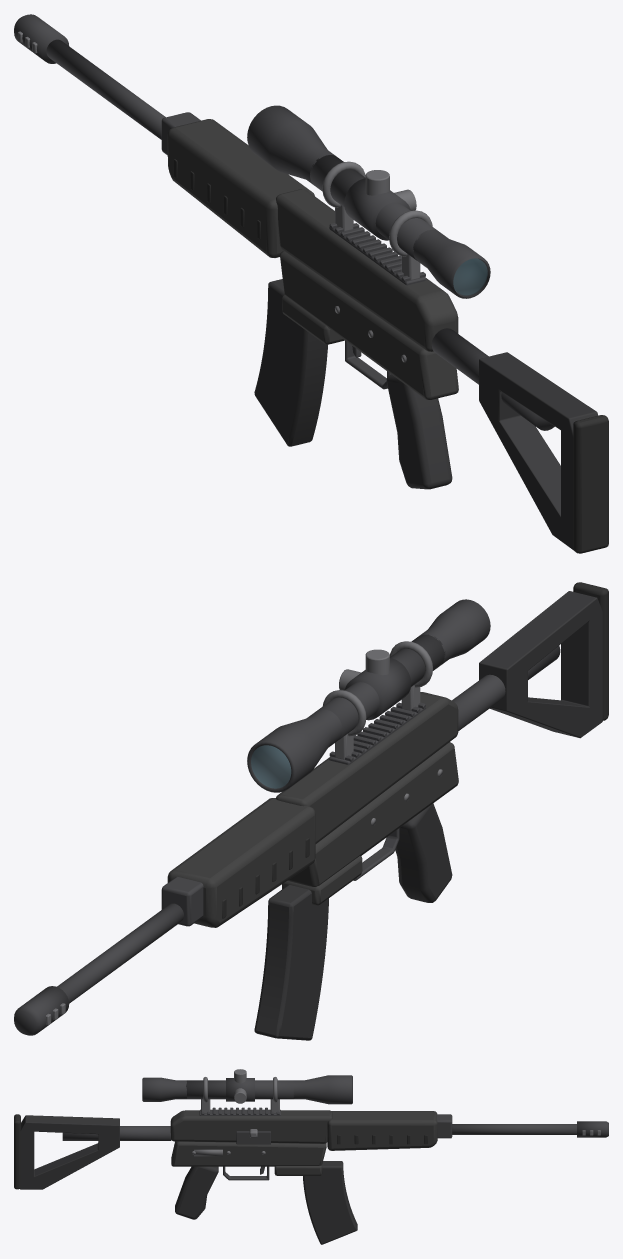
The picture shows the model from 3 angles, top to bottom: view 1: azimuth 30°, elevation 25°; view 2: azimuth 150°, elevation 25°; view 3: azimuth 270°, elevation 25°; orthographic projection. The views are drawn at different scales.
Visible parts, largest first — view 1: body, mag; view 2: body, mag; view 3: body, mag.
Part boxes in pixels (x1,y1,x2,y2): body: (14, 14, 608, 553); mag: (254, 279, 327, 446); body: (14, 582, 608, 1035); mag: (254, 885, 328, 1040); body: (14, 1069, 608, 1219); mag: (303, 1161, 357, 1244).
Bounding box in the file's own units: 0.0437 × 0.2341 × 0.74.
